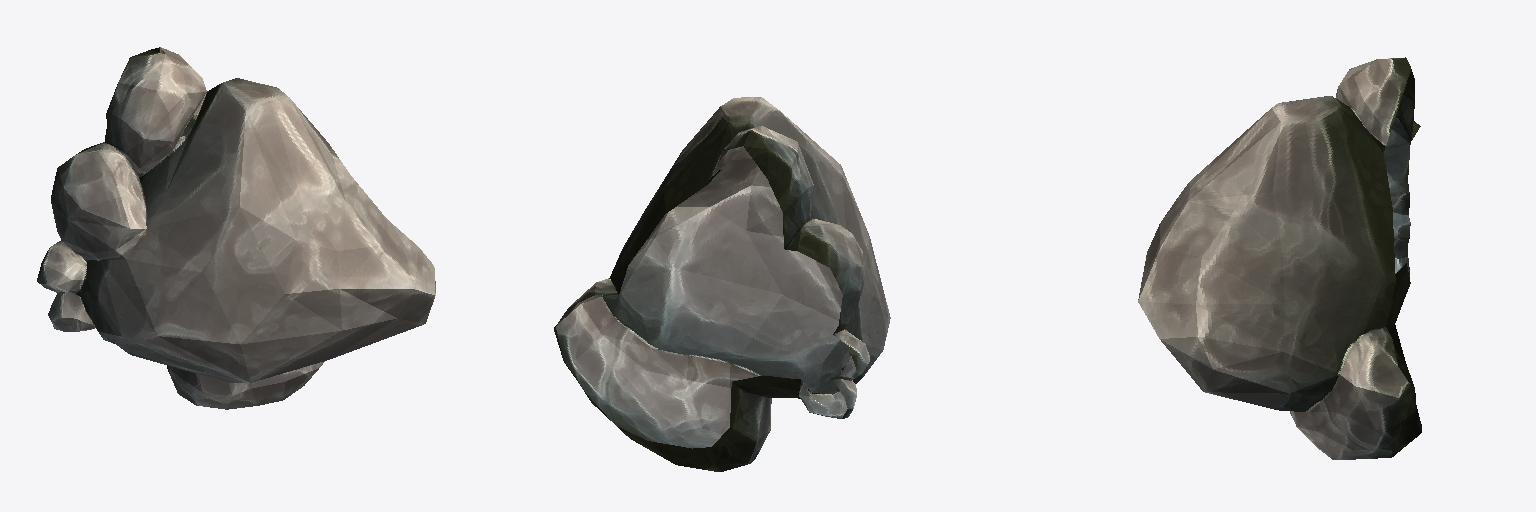
The picture shows the model from 3 angles: view 1: azimuth 30°, elevation 25°; view 2: azimuth 150°, elevation 25°; view 3: azimuth 270°, elevation 25°; orthographic projection.
Parts seen in each view (by area): view 1: med_Untitled; view 2: med_Untitled; view 3: med_Untitled.
Boxes of the visible parts, x1,y1,x2,y2 form: med_Untitled: [37, 47, 435, 409]; med_Untitled: [554, 97, 890, 471]; med_Untitled: [1138, 57, 1421, 459].
Size of the model in its own units: 1.05 by 1.14 by 0.829.
Materials: 1 (1 with a texture image).